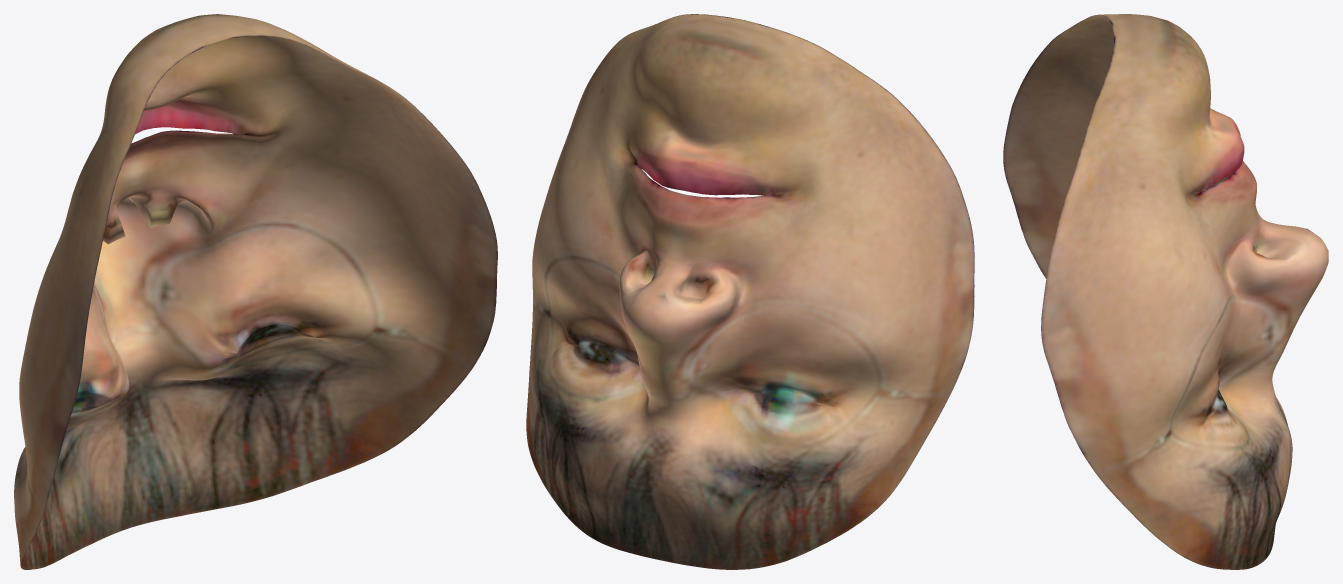
The model's file is NextFace.glb.
The picture shows the model from 3 angles, left to right: view 1: azimuth 30°, elevation 25°; view 2: azimuth 150°, elevation 25°; view 3: azimuth 270°, elevation 25°; orthographic projection. The views are drawn at different scales.
Visible parts, largest first — view 1: mesh0.001; view 2: mesh0.001; view 3: mesh0.001.
Part boxes in pixels (x1,y1,x2,y2): mesh0.001: [14, 14, 497, 569]; mesh0.001: [526, 14, 974, 569]; mesh0.001: [1003, 14, 1328, 569].
Bounding box in the file's own units: 0.8682 × 1 × 0.5947.
1 material, 1 textured.
